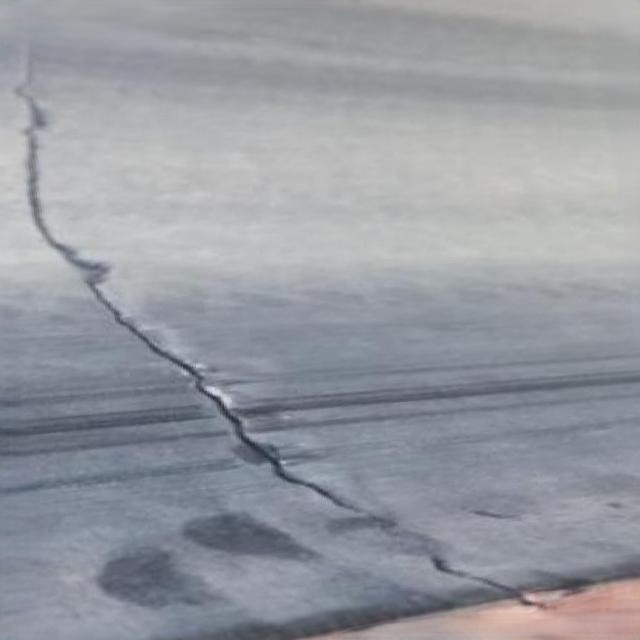Tear: (8, 31, 548, 614)
